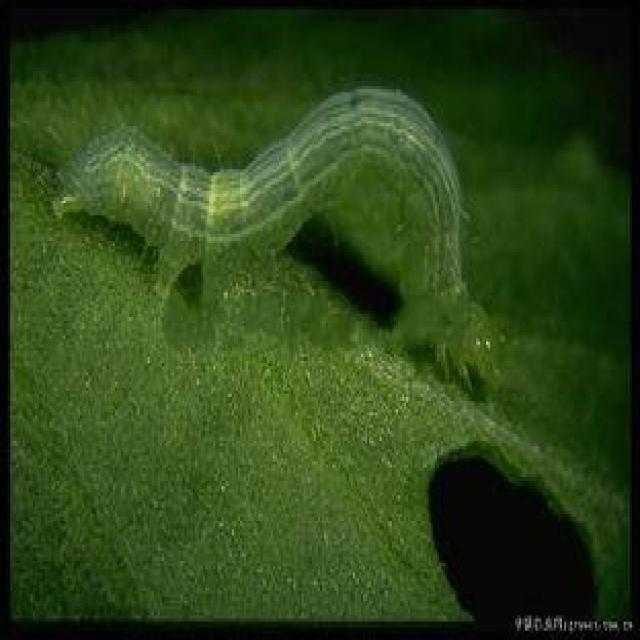BeetArmyWorm-Larva-: (48, 71, 509, 389)
